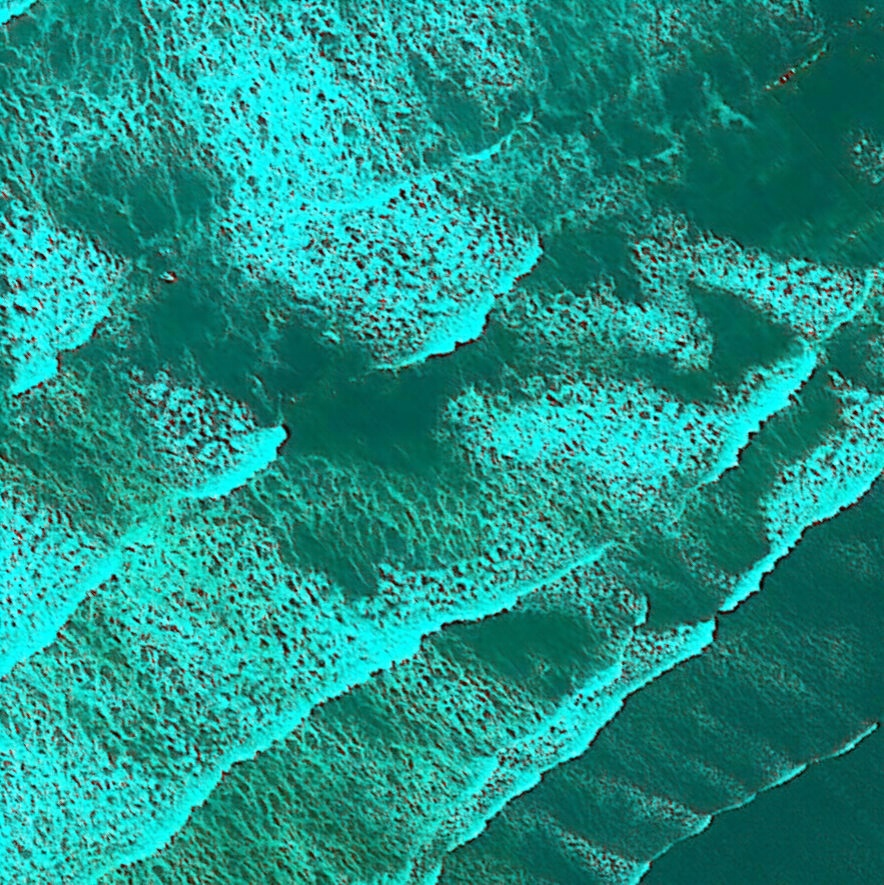rip_current: (40, 155, 608, 632)
